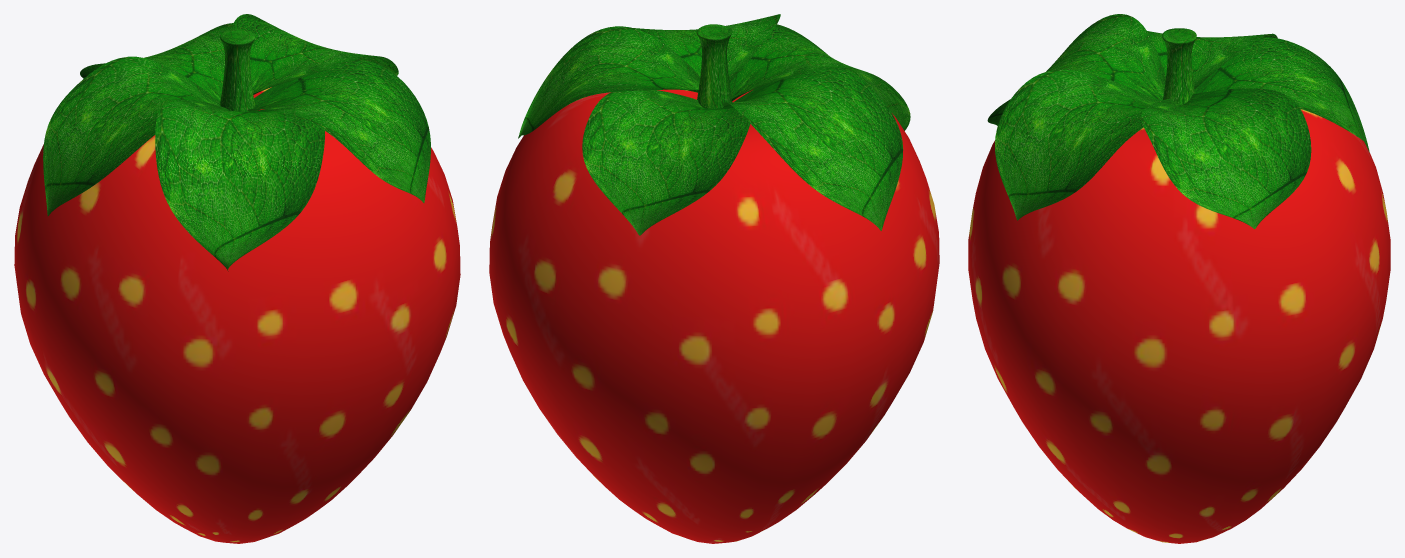
The model's file is fresa.fbx.
The picture shows the model from 3 angles, left to right: view 1: azimuth 30°, elevation 25°; view 2: azimuth 150°, elevation 25°; view 3: azimuth 270°, elevation 25°; orthographic projection.
Parts seen in each view (by area): view 1: Cube, Cube.004; view 2: Cube, Cube.004; view 3: Cube, Cube.004.
Part boxes in pixels (left/top/right/bottom): Cube: left=14, top=87, right=460, bottom=543; Cube.004: left=43, top=14, right=430, bottom=271; Cube: left=489, top=89, right=939, bottom=543; Cube.004: left=518, top=14, right=910, bottom=235; Cube: left=968, top=109, right=1390, bottom=543; Cube.004: left=987, top=14, right=1369, bottom=228.
Bounding box in the file's own units: 636 × 794 × 605.
Materials: 2 (2 with a texture image).
